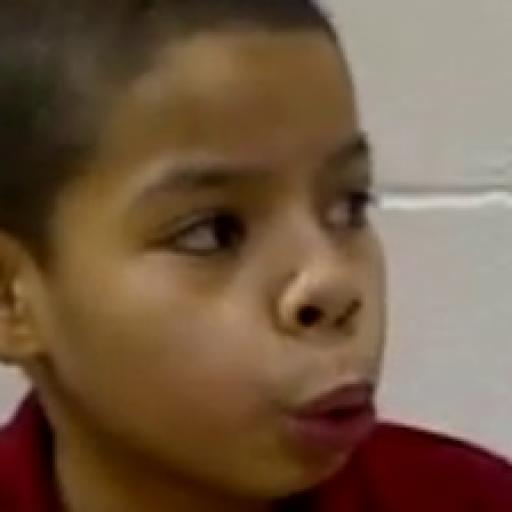Autism: (32, 10, 424, 498)
